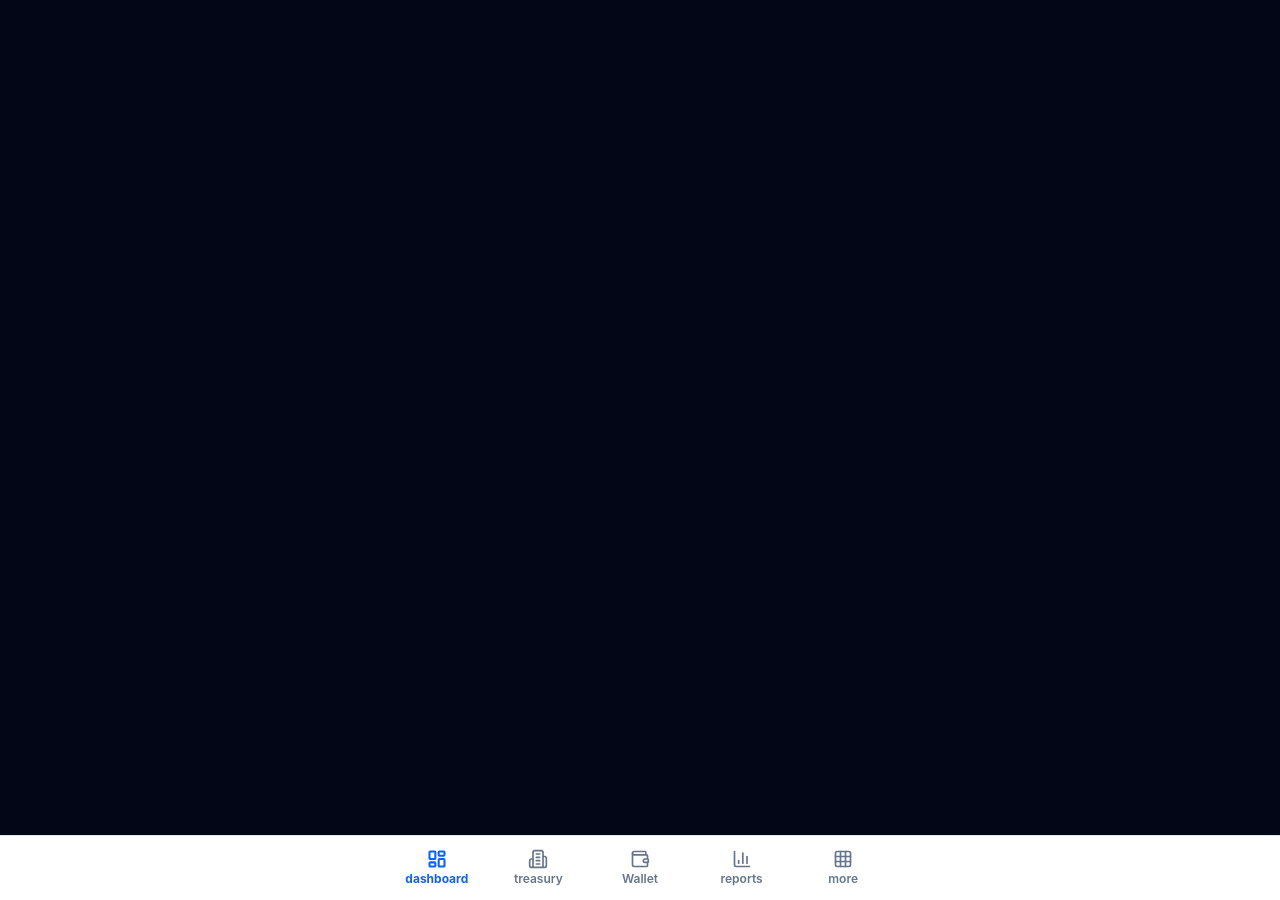
mobile More and Control workspace › opens safely and exposes permanent quick actions plus grouped ERP modules
Click the button "more".
click(843, 868)  # box left=792, top=836, right=894, bottom=899
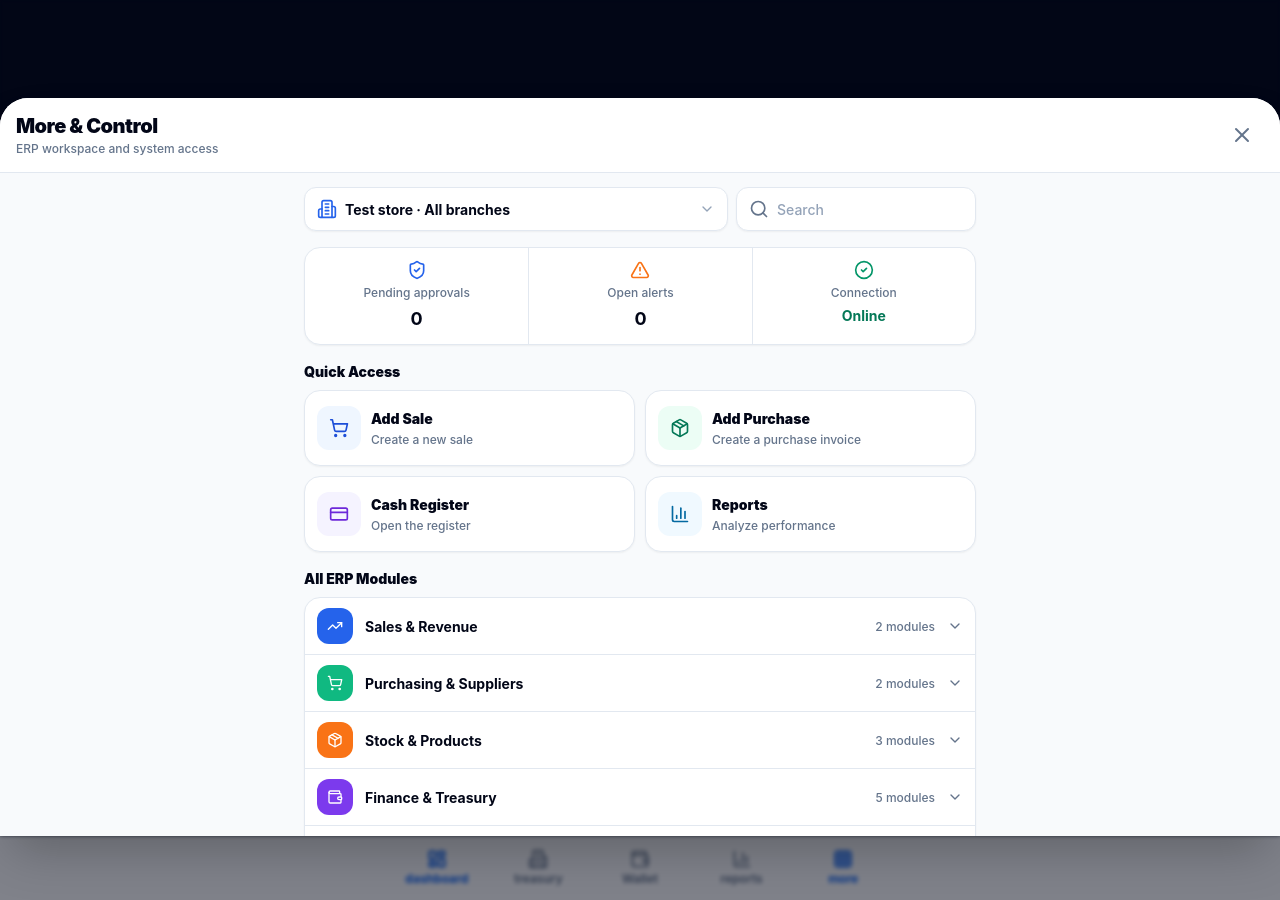
Result: the number of fields is 1 at left=777, top=198, right=963, bottom=220
Result: the number of dialogs is 1
